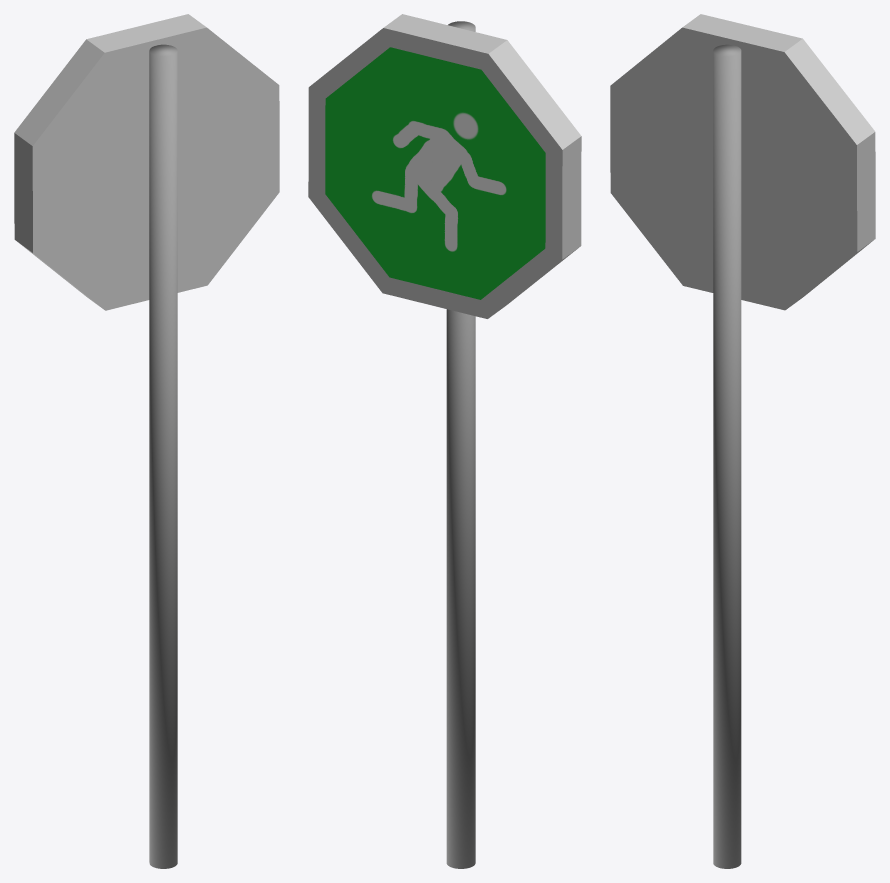
File: panneau_secours.glb
3 renders of one model, left to right at view 1: azimuth 30°, elevation 25°; view 2: azimuth 150°, elevation 25°; view 3: azimuth 330°, elevation 25°, orthographic. The views are drawn at different scales.
Parts seen in each view (by area): view 1: Cylinder.013; view 2: Cylinder.013; view 3: Cylinder.013.
Boxes of the visible parts, bbox=[...] form: Cylinder.013: bbox=[14, 14, 279, 868]; Cylinder.013: bbox=[308, 14, 581, 868]; Cylinder.013: bbox=[610, 14, 875, 868].
Bounding box in the file's own units: 3.67 × 11.6 × 0.8343.
Materials: 3 (2 with a texture image).
